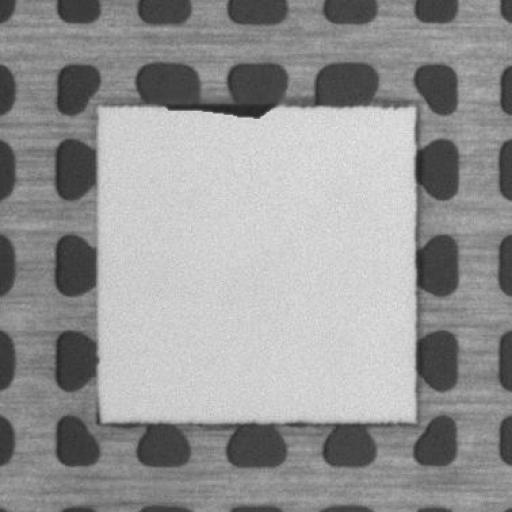DIE_BROKEN: (160, 95, 282, 120)
